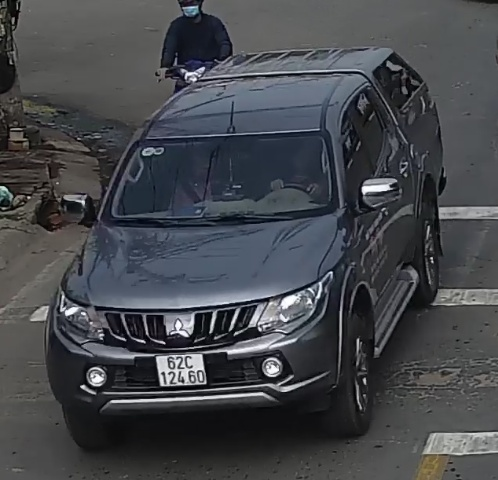vehicle plate: (146, 351, 212, 393)
